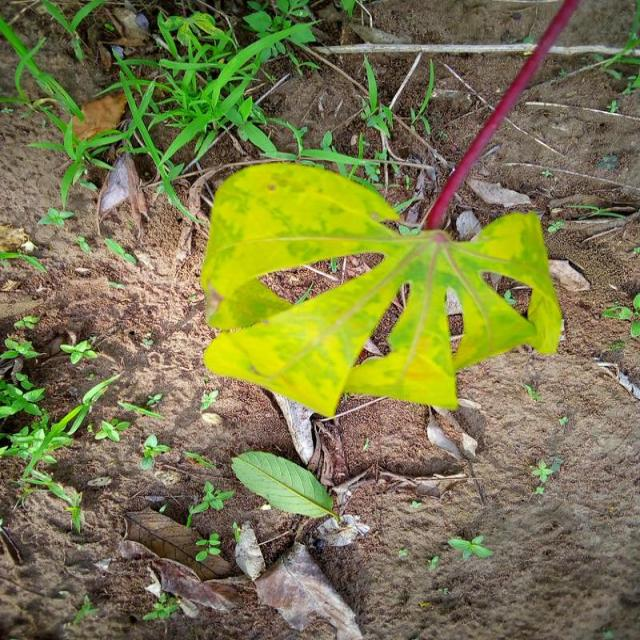cassava leaf: (200, 159, 562, 418), (230, 449, 338, 522)
